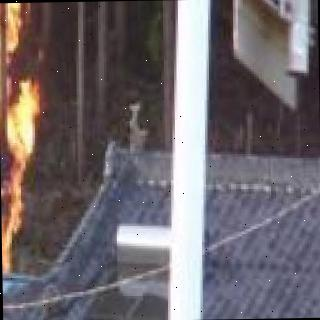fire: (0, 2, 35, 277)
